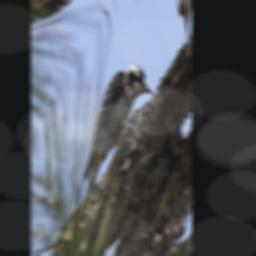Woodpecker: (66, 32, 160, 208)
